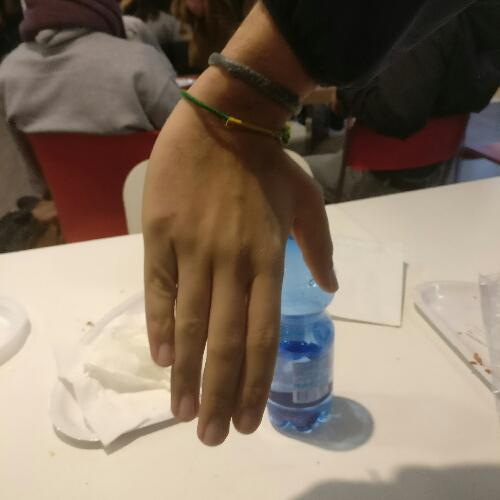paper: (132, 95, 344, 452)
